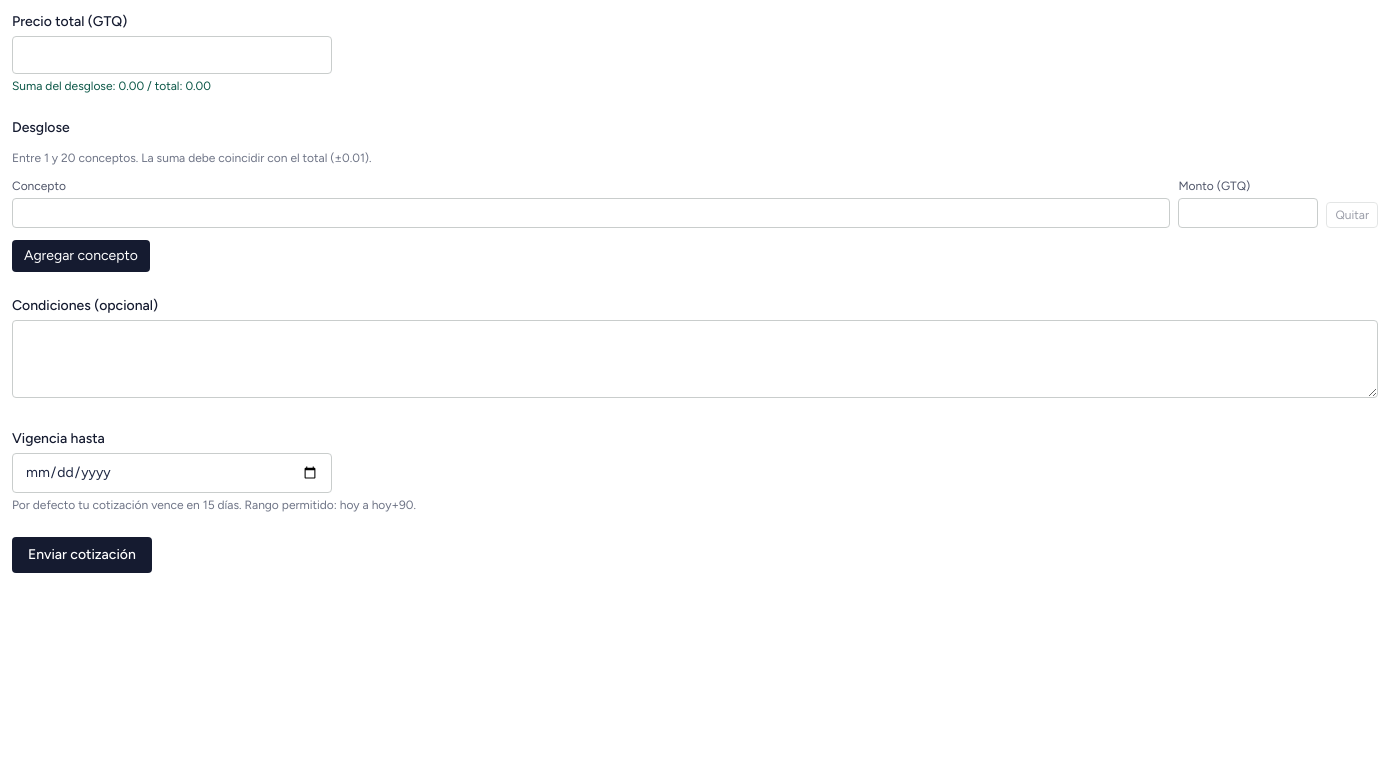
US-052 · QuoteResponseForm › BreakdownEditor permite agregar y quitar filas por teclado (click programático)
This screenshot has width=1390, height=780.
// Comienza con 1 fila — el botón Quitar de esa fila está deshabilitado.
Click the button "Agregar concepto". click: (81, 256)
box: [12,240,150,272]
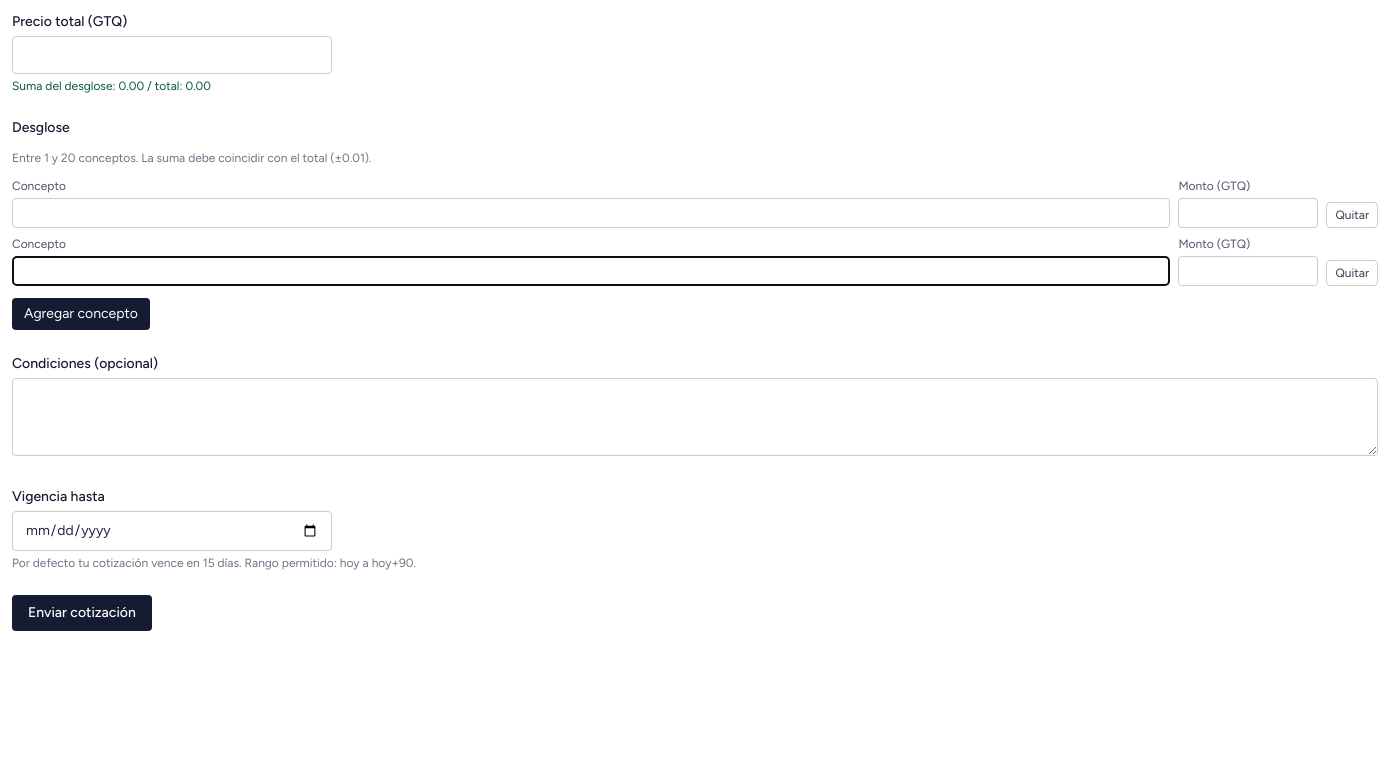
Check: the number of buttons named "Quitar el concepto" is 2, box [1326,202,1378,228]; [1326,260,1378,286]
